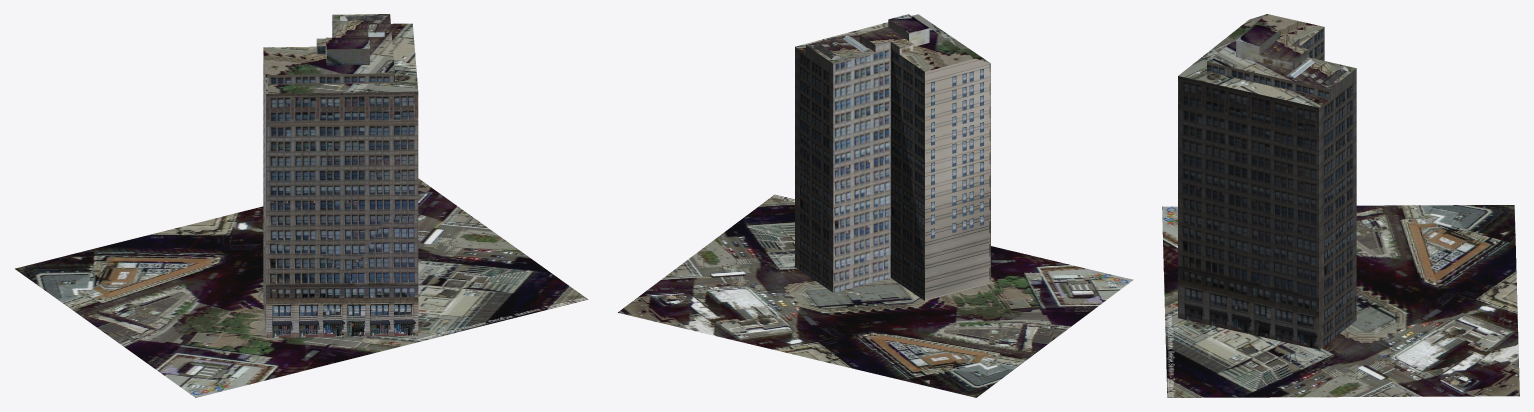
Rendered from 45-East-17th-Street.fbx.
The picture shows the model from 3 angles, left to right: view 1: azimuth 30°, elevation 25°; view 2: azimuth 150°, elevation 25°; view 3: azimuth 270°, elevation 25°; orthographic projection. The views are drawn at different scales.
Visible parts, largest first — view 1: Model, Google_Earth_Snapshot; view 2: Model, Google_Earth_Snapshot; view 3: Model, Google_Earth_Snapshot.
Part boxes in pixels (<box>): Model: <box>263,14,418,337</box>; Google_Earth_Snapshot: <box>15,178,588,397</box>; Model: <box>795,14,990,300</box>; Google_Earth_Snapshot: <box>618,194,1132,397</box>; Model: <box>1178,14,1356,349</box>; Google_Earth_Snapshot: <box>1162,205,1519,397</box>.
Bounding box in the file's own units: 4655 × 3015 × 3646.
